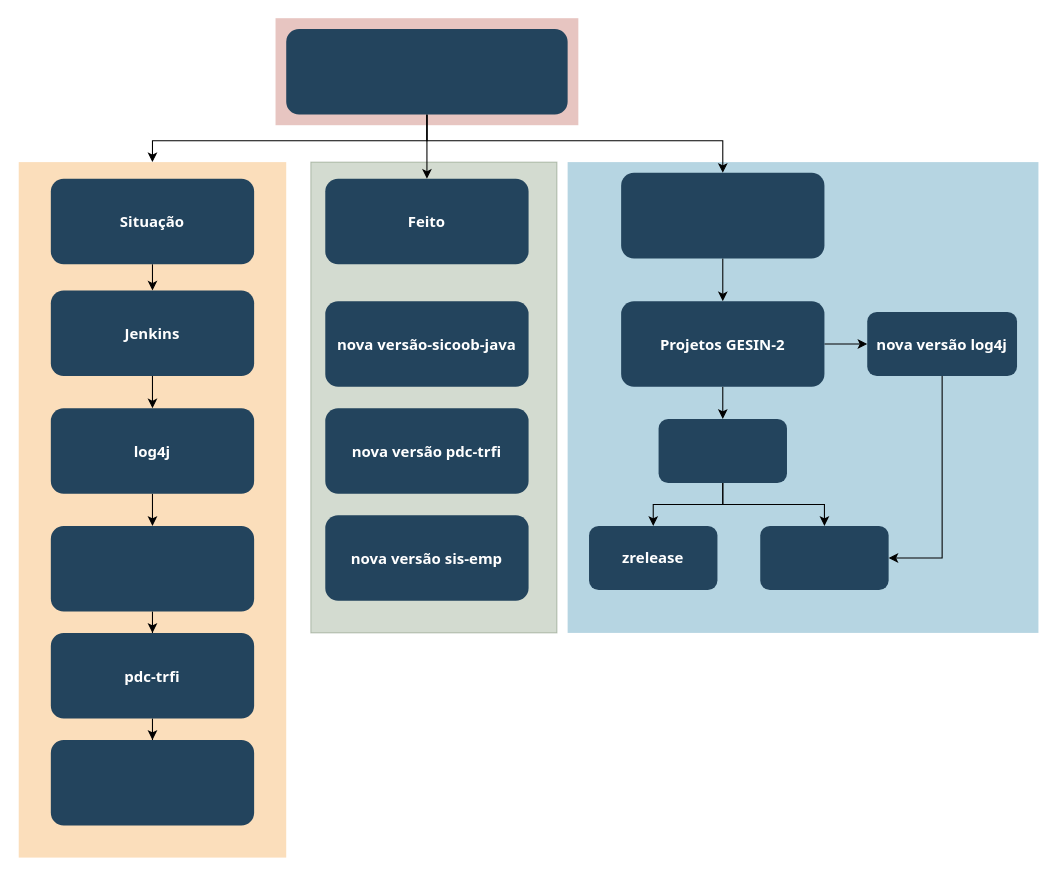
Image size: 1056x876. Some labels were removed from this diagram. Each missing label, with the centre of its shape:
A fazer: (722,215)
dependências pom.xml: (824,557)
nova versão-trfi: (722,450)
Projetos-GESIN2: (152,782)
sicoob-java: (152,568)
Vulnerabilidade LOG4J: (426,71)
